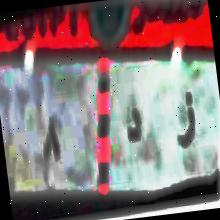8: (38, 112, 64, 167)
daal: (122, 100, 146, 155)
zay: (166, 86, 202, 152)
